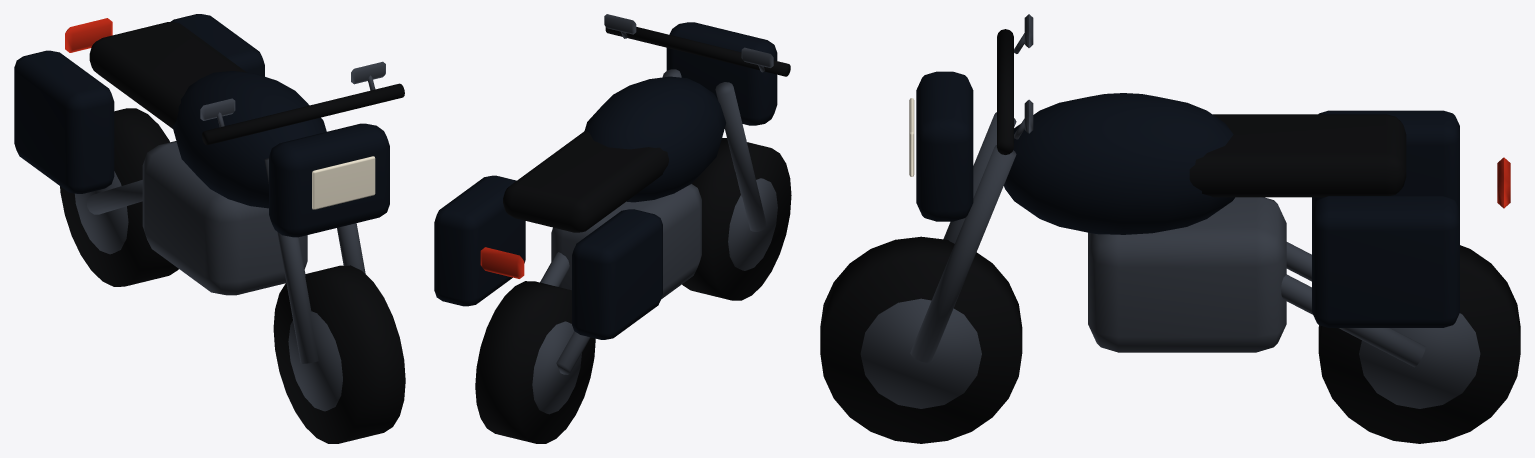
The model's file is bike-tip.glb.
3 renders of one model, left to right at view 1: azimuth 30°, elevation 25°; view 2: azimuth 150°, elevation 25°; view 3: azimuth 270°, elevation 25°, orthographic. The views are drawn at different scales.
Parts seen in each view (by area): view 1: brav-m-motorbike; view 2: brav-m-motorbike; view 3: brav-m-motorbike.
Boxes of the visible parts, x1,y1,x2,y2 form: brav-m-motorbike: [14, 14, 405, 443]; brav-m-motorbike: [434, 14, 791, 443]; brav-m-motorbike: [820, 14, 1520, 443].
Bounding box in the file's own units: 0.79 × 1.2 × 2.08.
1 material, 1 textured.
